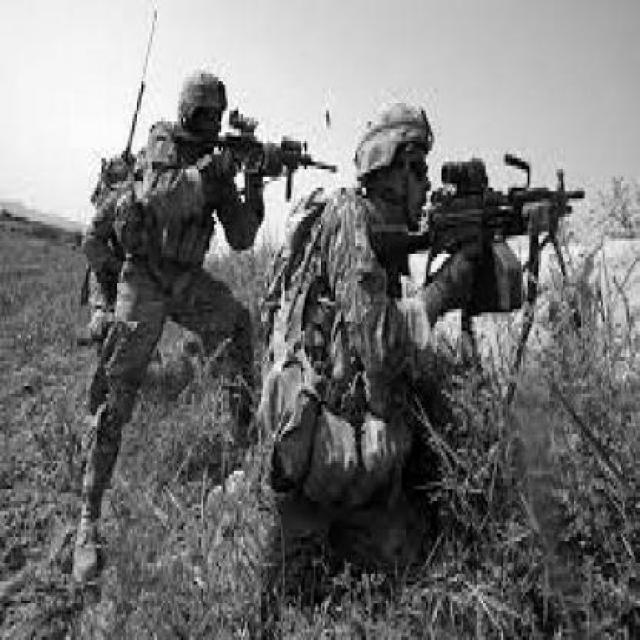Person: (252, 84, 486, 581), (67, 64, 266, 589)
